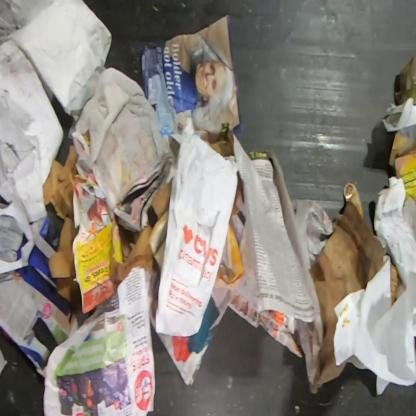cardboard: (388, 124, 415, 206), (343, 183, 363, 218)
